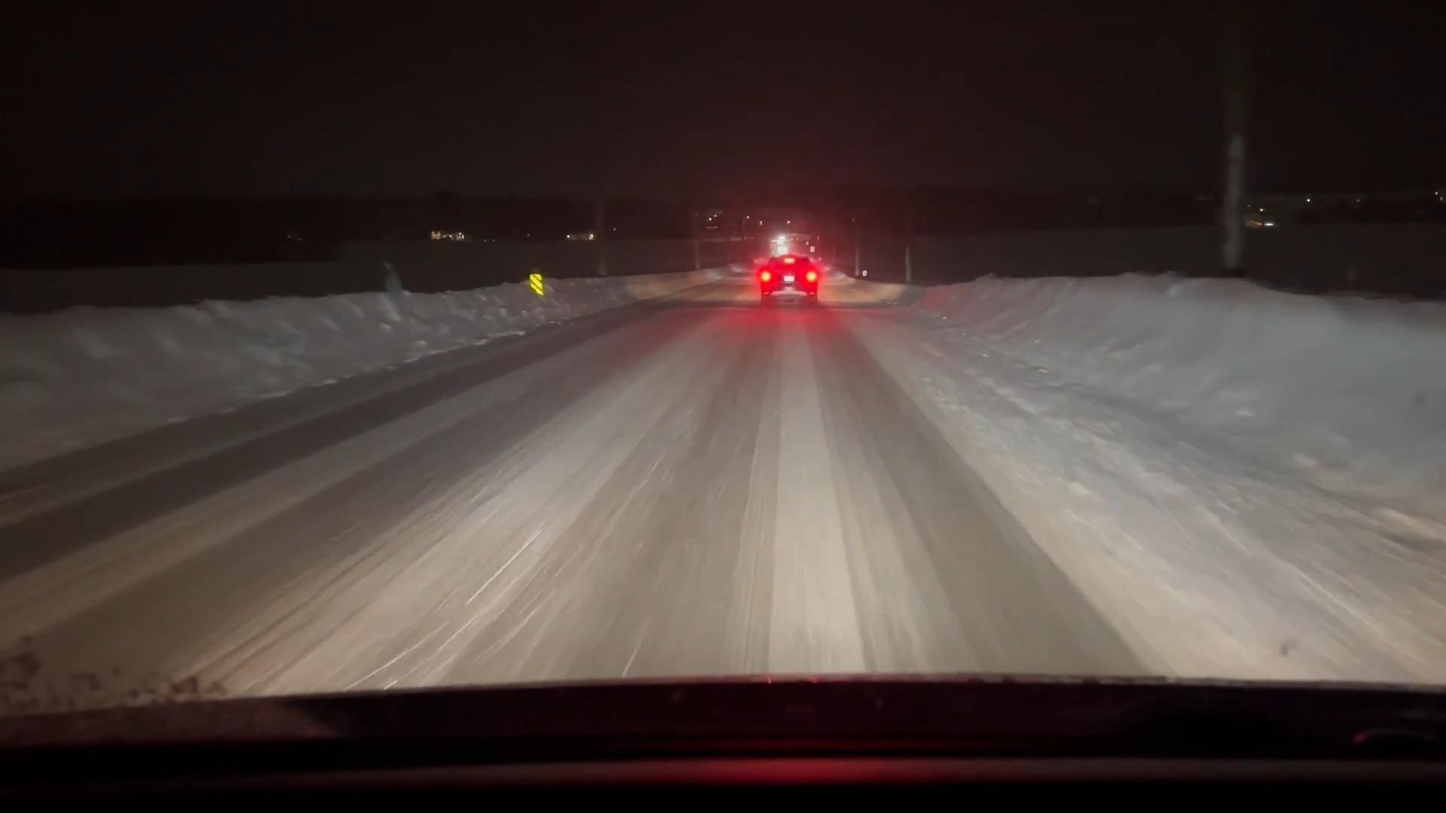Snow: (0, 275, 1445, 707)
